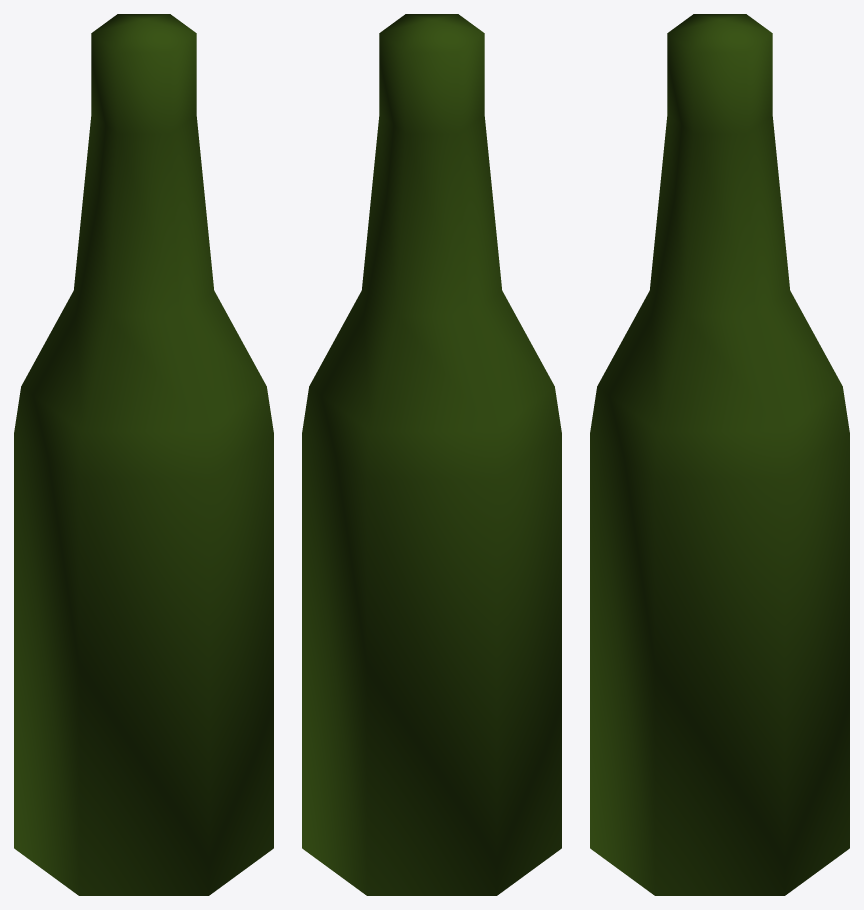
Rendered from BottleBeer.fbx.
3 views of the same model, side by side, from view 1: azimuth 30°, elevation 25°; view 2: azimuth 150°, elevation 25°; view 3: azimuth 270°, elevation 25° (orthographic).
Visible parts, largest first — view 1: BottleBeer; view 2: BottleBeer; view 3: BottleBeer.
Part boxes in pixels (left/top/right/bottom): BottleBeer: left=14, top=14, right=273, bottom=895; BottleBeer: left=302, top=14, right=561, bottom=895; BottleBeer: left=590, top=14, right=849, bottom=895.
Size of the model in its own units: 0.0846 by 0.3437 by 0.0977.
